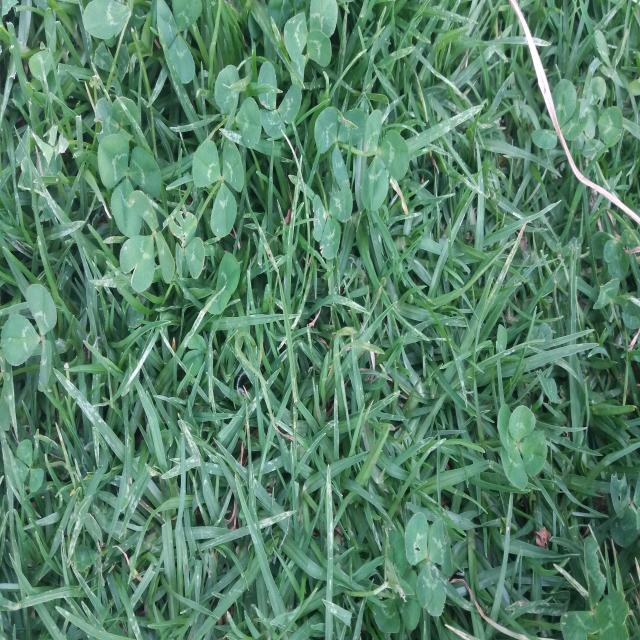Four Leaf Clover: (497, 403, 548, 489)
